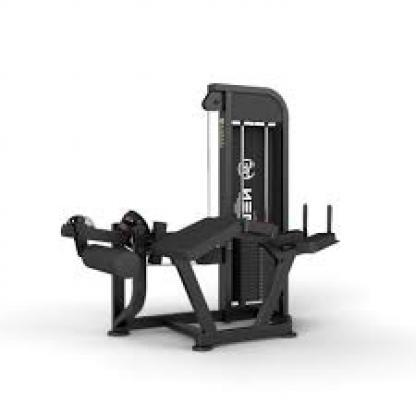reg curl machine: (56, 78, 347, 350)
